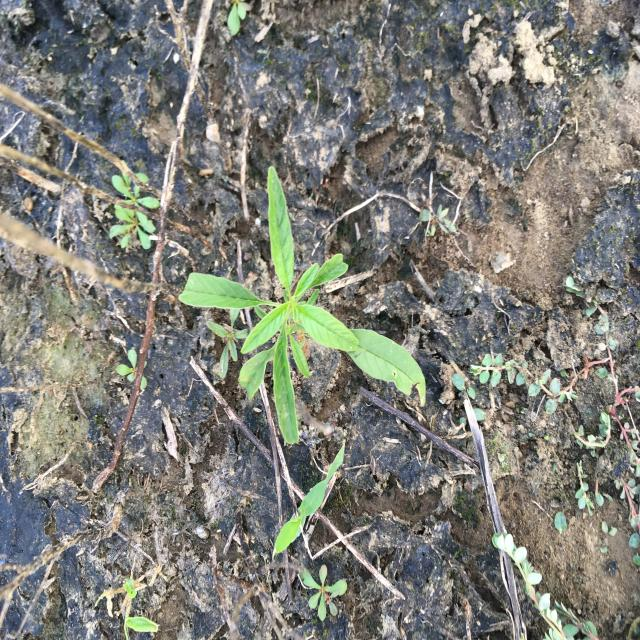Carpetweed: (108, 166, 162, 252), (297, 561, 350, 624)
SpottedSpurge: (468, 275, 639, 560), (488, 532, 599, 638)
Waterhemp: (176, 164, 428, 448)
